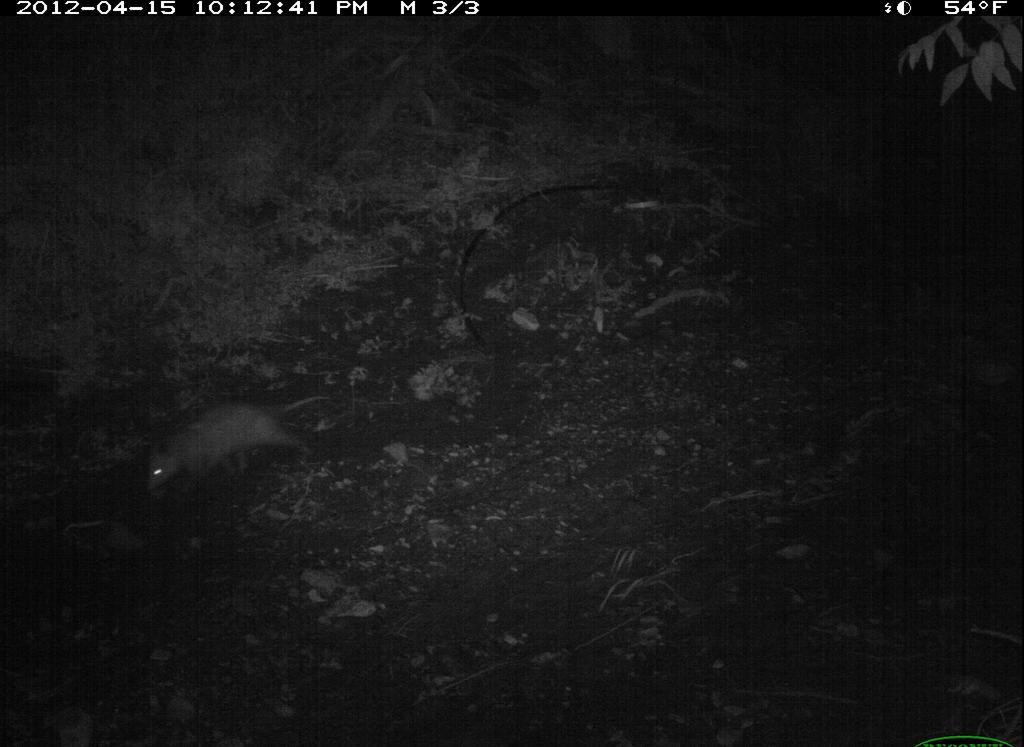opossum: (131, 387, 345, 501)
